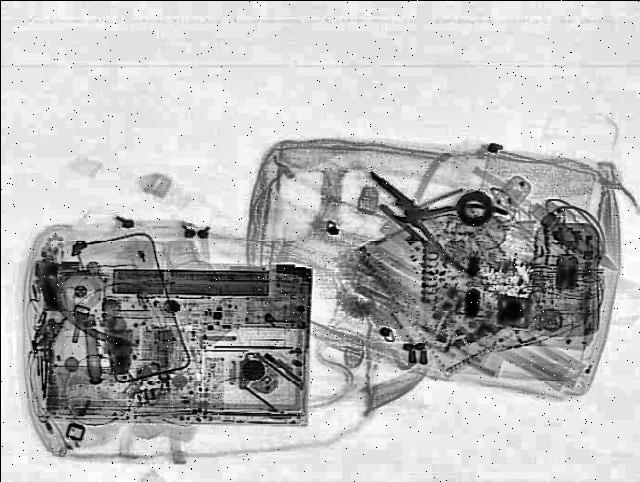Pliers: (371, 180, 514, 274)
